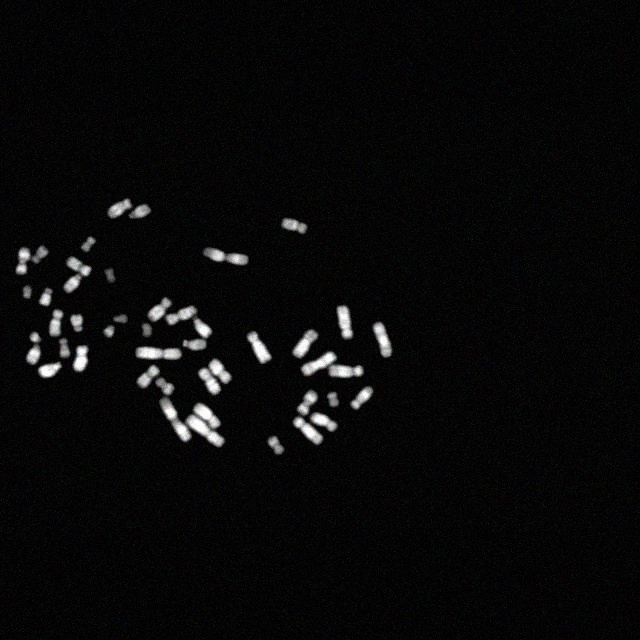chromosome: (160, 398, 190, 442), (186, 414, 224, 448), (246, 330, 272, 364), (202, 247, 248, 265), (294, 417, 322, 445), (302, 352, 336, 374), (292, 330, 318, 358), (193, 404, 221, 428), (166, 305, 198, 325), (373, 324, 393, 356), (148, 297, 172, 323), (208, 358, 232, 384), (136, 364, 160, 388), (136, 346, 180, 359), (198, 369, 220, 395), (311, 412, 337, 432), (297, 390, 317, 416), (336, 306, 352, 338), (351, 386, 373, 409), (328, 365, 364, 379), (108, 198, 132, 218), (67, 256, 91, 276), (74, 346, 90, 372), (64, 272, 82, 294), (15, 248, 30, 274), (282, 218, 306, 234), (38, 362, 62, 378), (194, 318, 212, 338), (49, 309, 62, 336), (156, 378, 174, 396), (268, 436, 284, 456), (129, 205, 151, 219), (32, 246, 48, 264), (26, 346, 42, 364), (70, 314, 84, 332), (184, 338, 206, 349), (80, 238, 96, 252), (40, 288, 52, 306), (60, 338, 70, 358), (104, 269, 116, 283), (327, 392, 339, 406), (112, 314, 128, 324), (103, 326, 115, 338), (142, 324, 152, 338), (22, 286, 32, 298), (30, 332, 42, 342)
